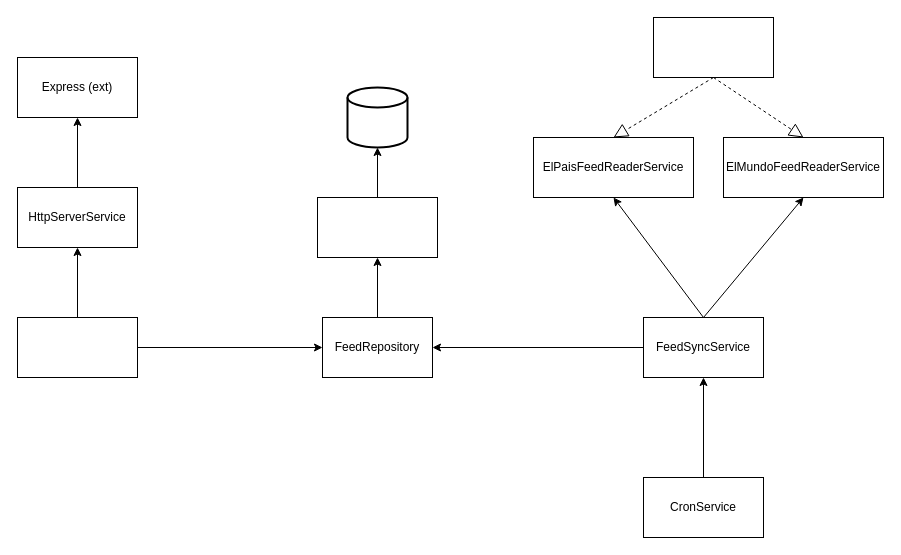
The diagram is 901 pixels wide and 555 high, and some of its shapes have lost their labels. The shapes that lost their labels are listed below. From the top down, each one's centre as x and y in pixels, then its label:
point 713,47: FeedReaderService
point 377,227: Mongoose (ext)
point 77,347: FeedController
